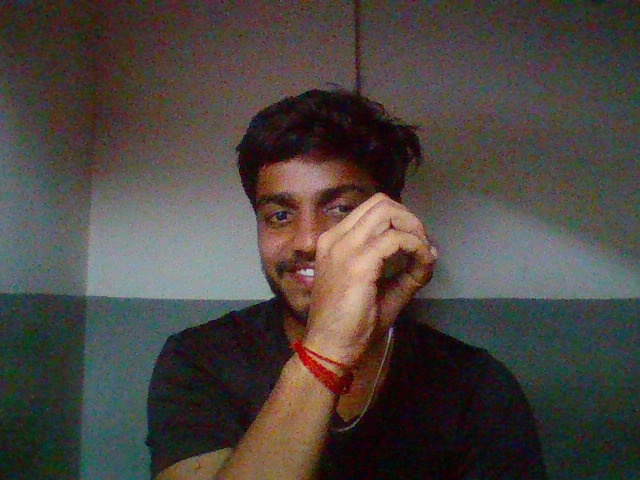O: (262, 181, 483, 375)
